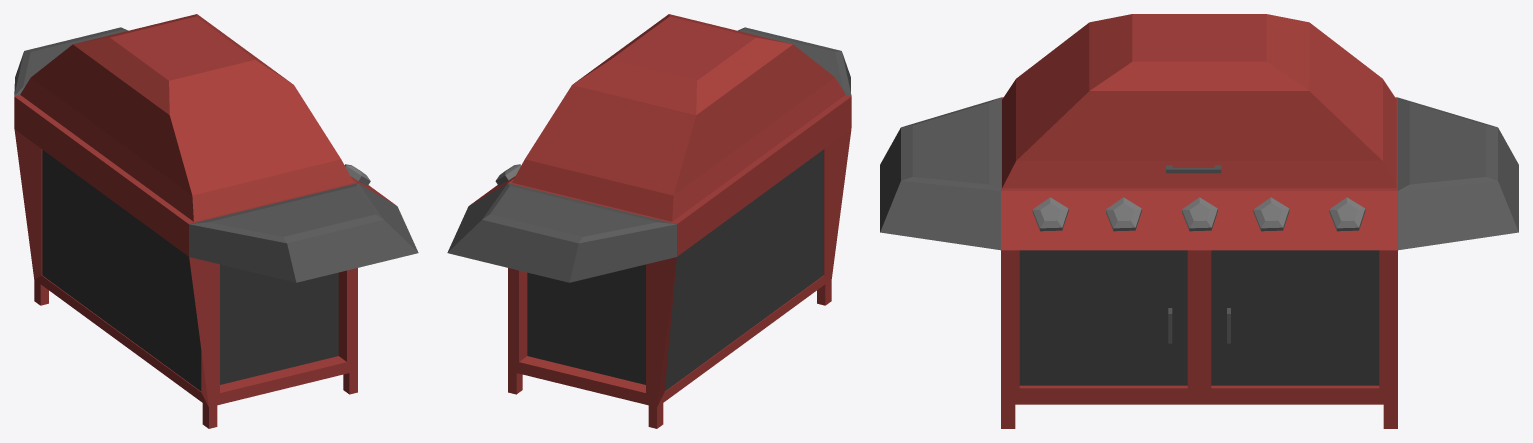
File: bbq.fbx
The picture shows the model from 3 angles, left to right: view 1: azimuth 30°, elevation 25°; view 2: azimuth 150°, elevation 25°; view 3: azimuth 270°, elevation 25°; orthographic projection. The views are drawn at different scales.
Parts seen in each view (by area): view 1: Cube, Cube.003; view 2: Cube, Cube.003; view 3: Cube, Cube.003, Cylinder, Cylinder.003, Cylinder.004, Cylinder.002, Cylinder.001.
Boxes of the visible parts, left/top/right/bottom form: Cube: left=14, top=27, right=418, bottom=428; Cube.003: left=20, top=14, right=353, bottom=221; Cube: left=447, top=27, right=851, bottom=428; Cube.003: left=512, top=14, right=845, bottom=221; Cube: left=880, top=97, right=1518, bottom=428; Cube.003: left=1002, top=14, right=1396, bottom=188; Cylinder: left=1032, top=197, right=1068, bottom=231; Cylinder.003: left=1253, top=197, right=1289, bottom=231; Cylinder.004: left=1329, top=197, right=1365, bottom=231; Cylinder.002: left=1182, top=197, right=1217, bottom=231; Cylinder.001: left=1106, top=197, right=1141, bottom=231.
Size of the model in its own units: 280 by 386 by 653.
